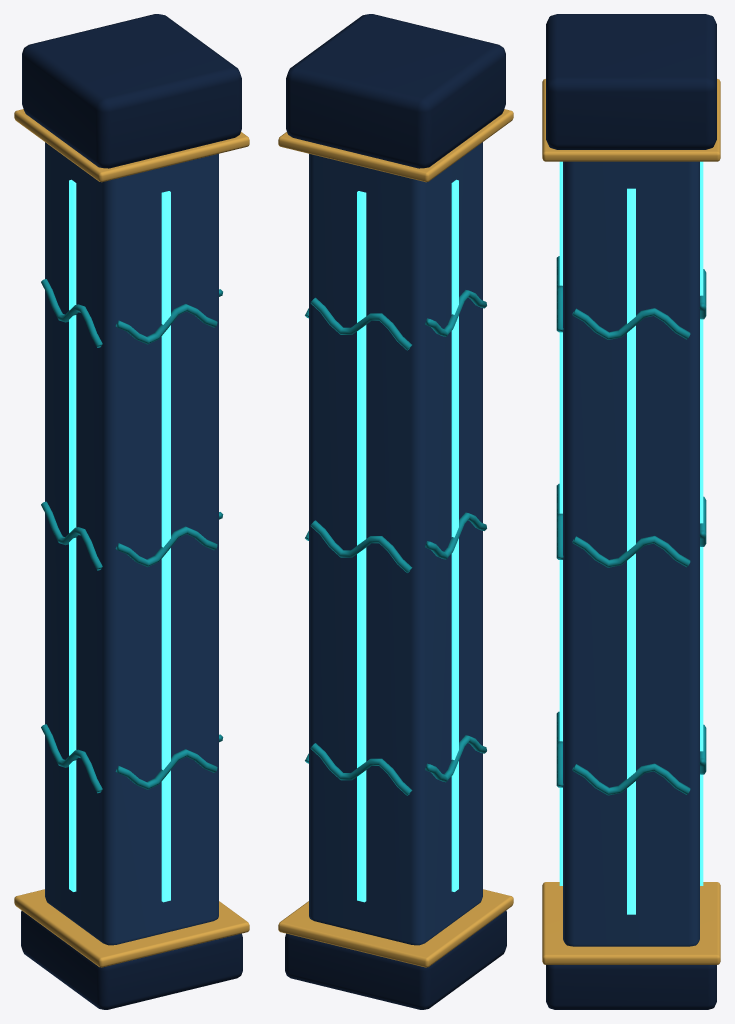
The model's file is aqua_pillar.glb.
3 renders of one model, left to right at view 1: azimuth 30°, elevation 25°; view 2: azimuth 150°, elevation 25°; view 3: azimuth 270°, elevation 25°, orthographic. The views are drawn at different scales.
Parts seen in each view (by area): view 1: Pillar; view 2: Pillar; view 3: Pillar.
Boxes of the visible parts, x1,y1,x2,y2 form: Pillar: (14,14,249,1009); Pillar: (278,14,513,1009); Pillar: (542,14,720,1009).
Bounding box in the file's own units: 1.56 × 9 × 1.56.
